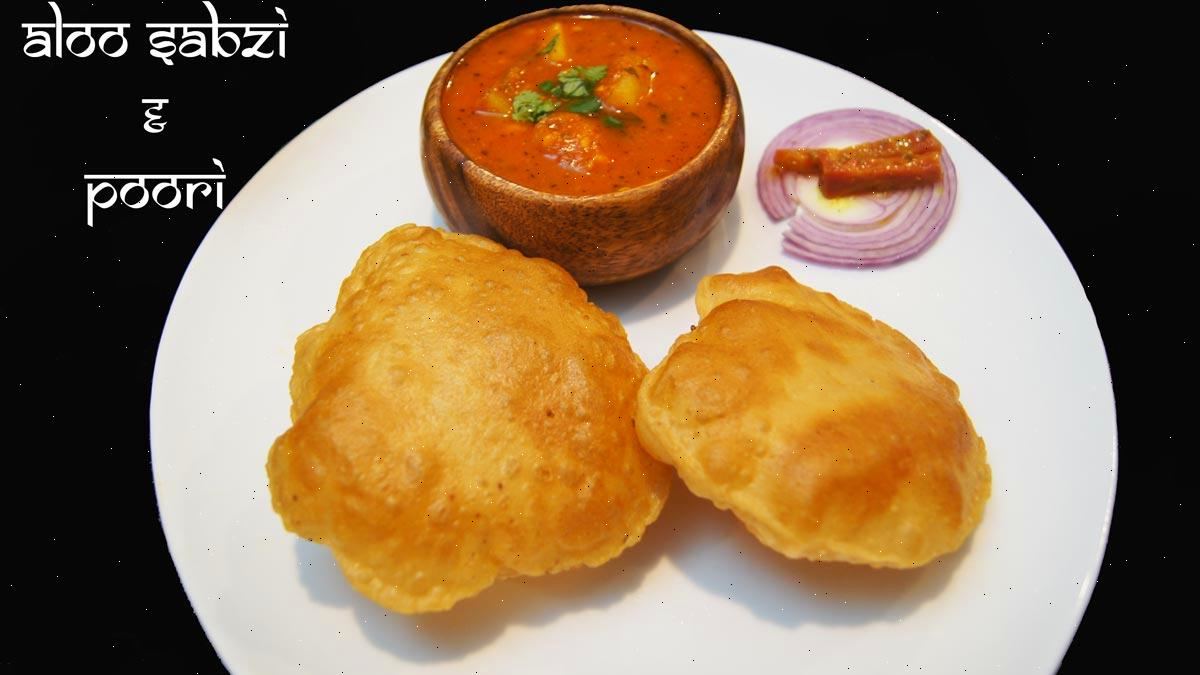puri: (253, 260, 987, 620)
